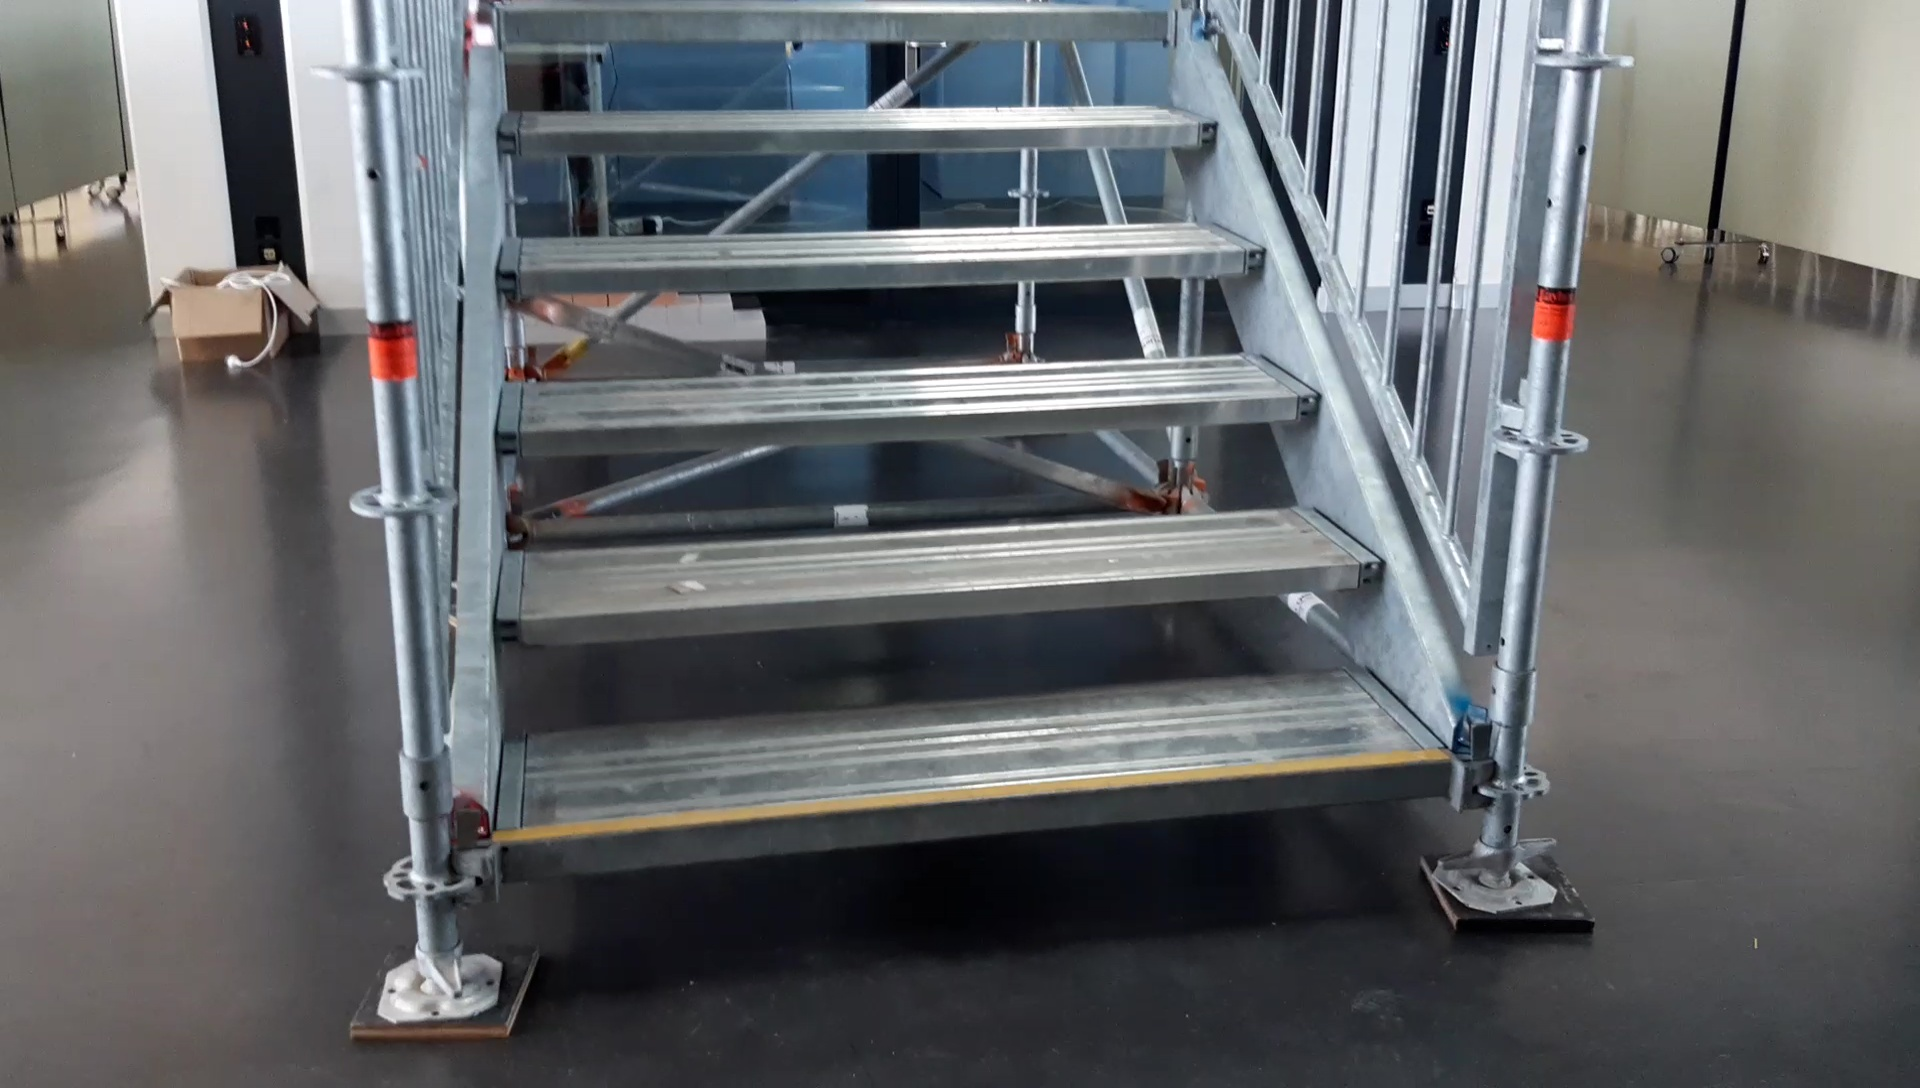brick: (736, 309, 767, 340), (702, 302, 731, 323), (703, 324, 731, 342)
edge: (496, 760, 1449, 876), (497, 560, 1385, 642), (496, 393, 1323, 458), (492, 248, 1265, 295), (496, 120, 1218, 156), (497, 8, 1183, 41)
stairs: (343, 0, 1601, 1055)
steps: (468, 7, 1456, 895)
